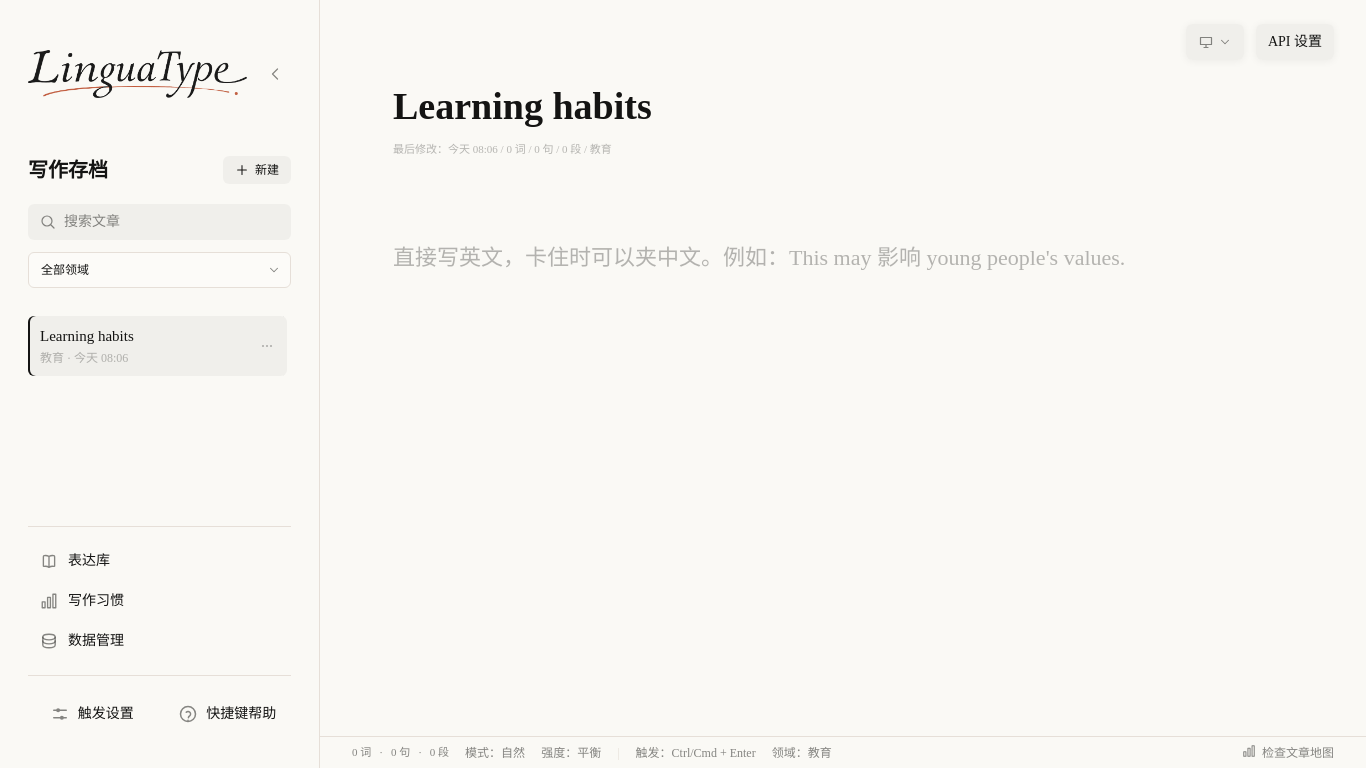
Chinese placeholder writing flow › lets the shortcut request the sentence at the cursor instead of the latest sentence
The image size is (1366, 768).
Step 1. Type "I found that many students lack 自主学习能力. Final English sentence." into the text box named "写作编辑器" → (843, 493), box [393, 233, 1293, 753]
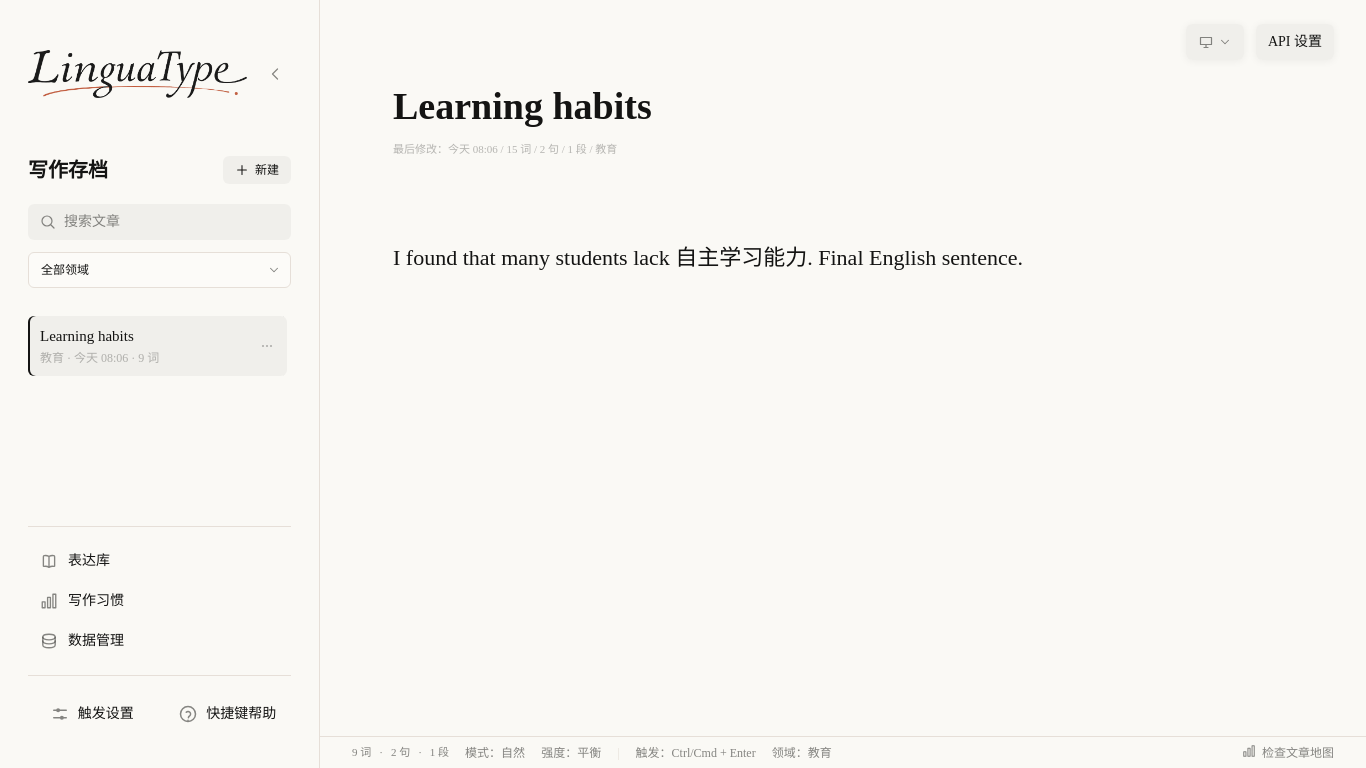
Step 2. Press Enter in the text box named "写作编辑器", box [393, 233, 1293, 753]
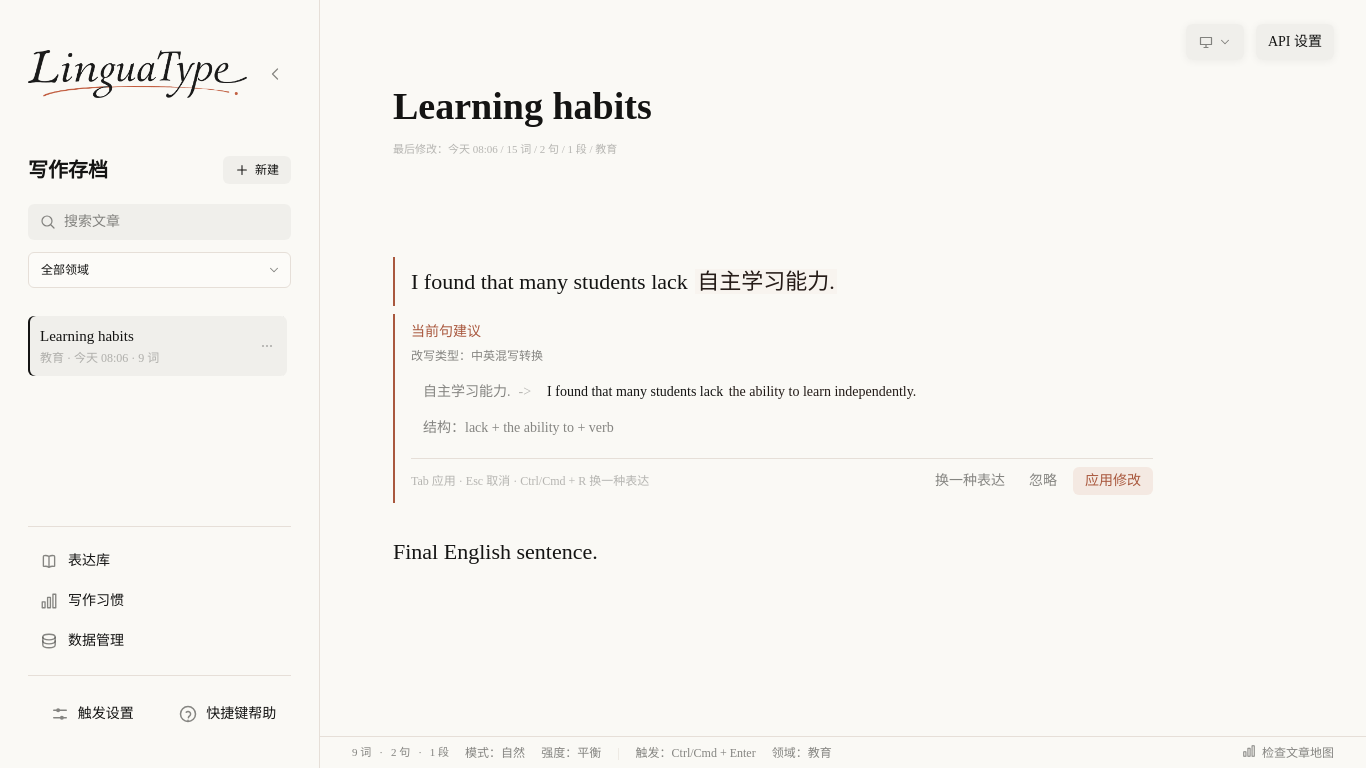
Result: the element named "当前句行内建议" is shown at [393, 314, 1153, 503]
Result: the element showing "I found that many students lack 自主学习能力." is shown at [393, 257, 1197, 306]
